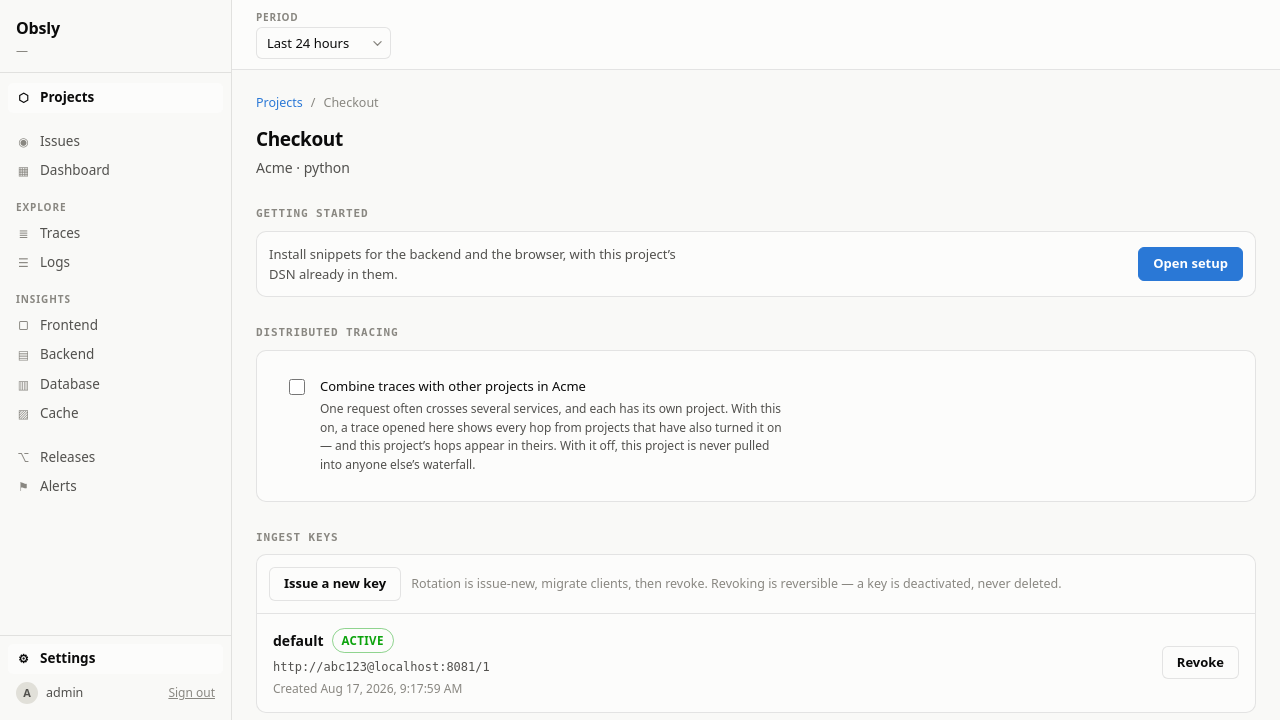
it: Project settings › revokes a key
Click the button "Revoke". click: (1200, 663)
box: [1162,646,1239,680]
(page scrolled)
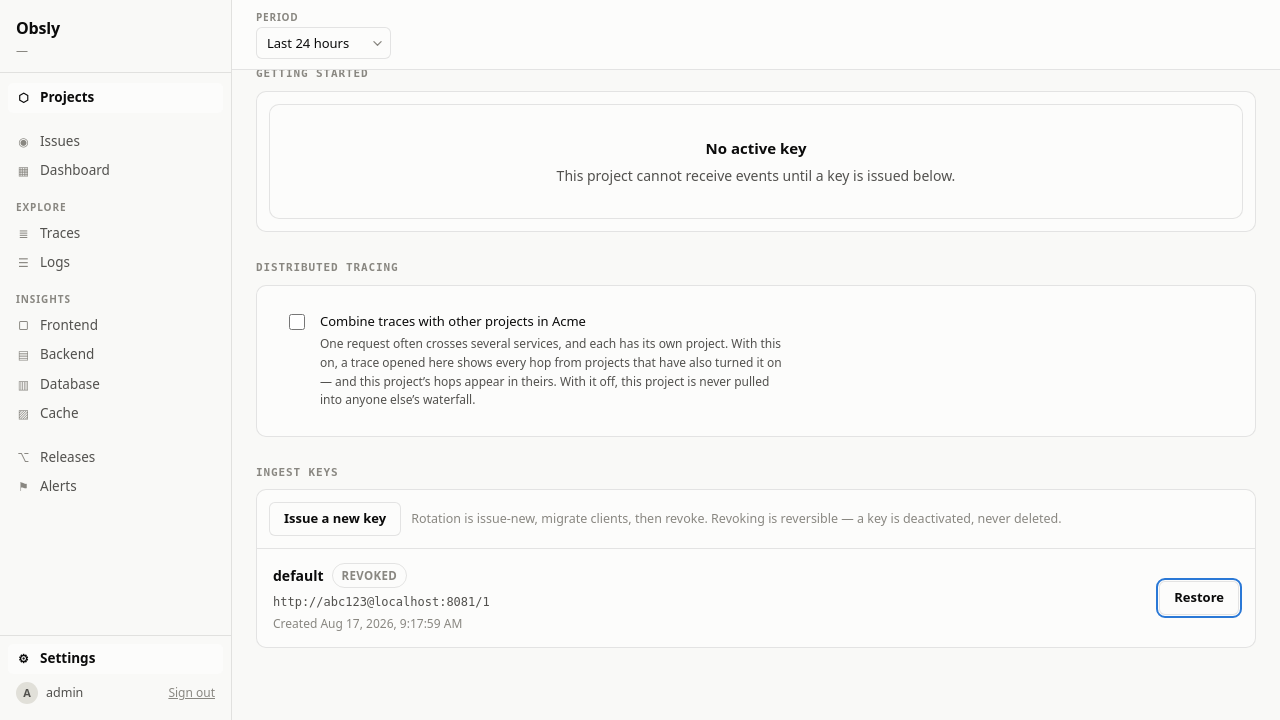
Check: the button "Restore" is shown, box [1159,581,1239,615]
